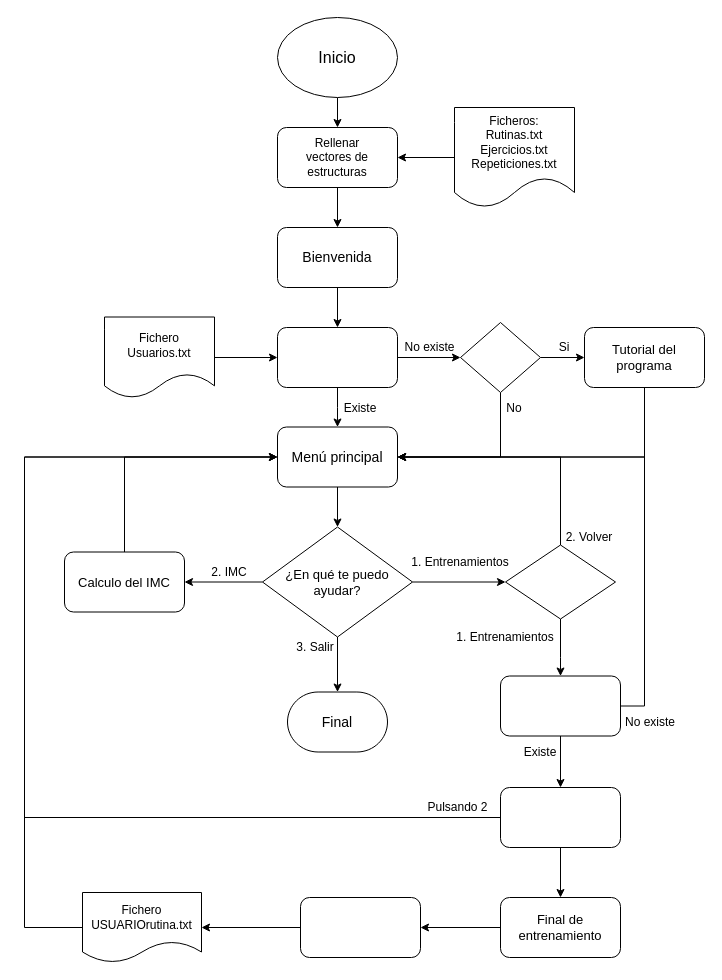
The diagram is 722 pixels wide and 980 high, and some of its shapes have lost their labels. The centre of each missing label's shape, as x and y in pixels:
Comienzo de entrenamiento: the point at 560,817
Comprobar usuario: the point at 337,357
Resultados: the point at 360,927
Rutina: the point at 560,705
¿Entrenar?: the point at 560,581
¿Tutorial?: the point at 500,357
